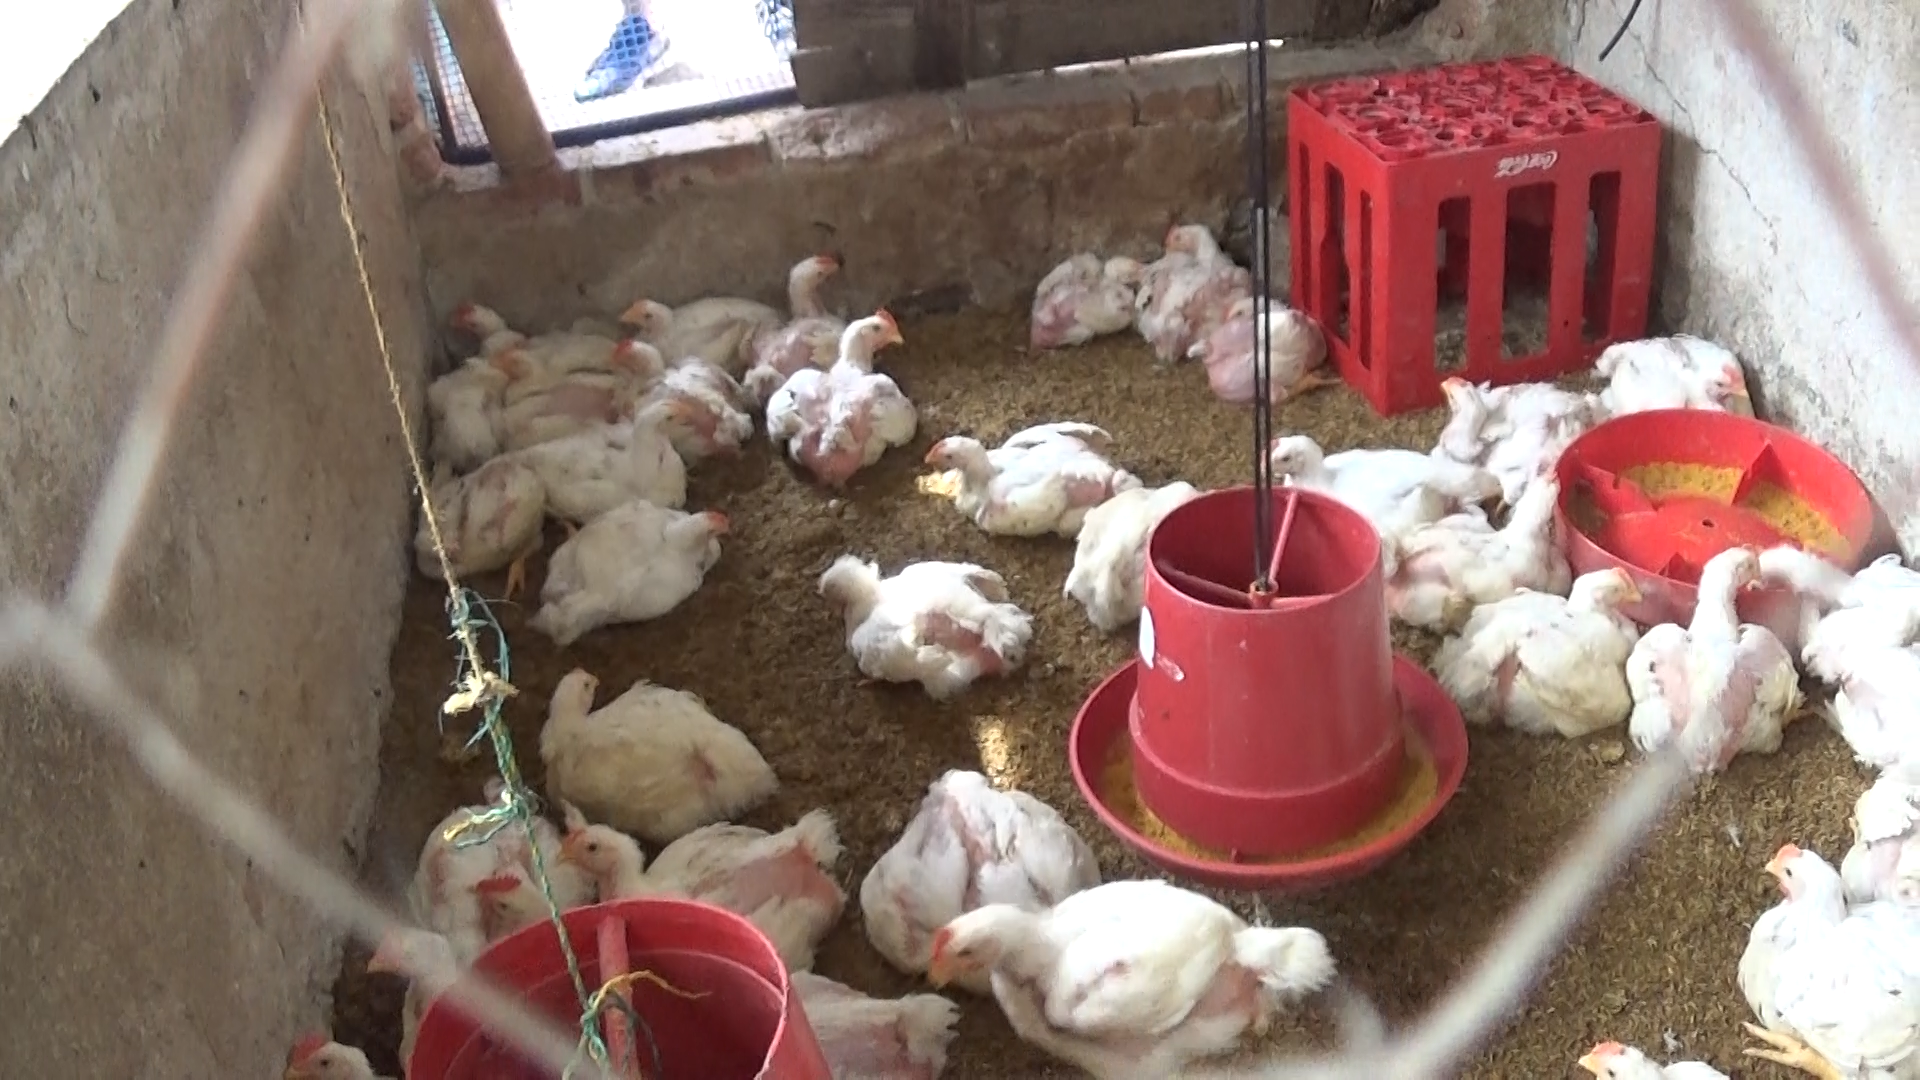Pollos: (913, 876, 1327, 1073), (861, 752, 1102, 978), (1720, 822, 1920, 1073), (553, 800, 852, 959), (521, 653, 775, 825), (1619, 541, 1796, 787), (1431, 567, 1648, 742), (527, 481, 742, 649), (802, 541, 1029, 687), (1253, 418, 1495, 545), (770, 298, 934, 481), (899, 404, 1130, 529), (1382, 472, 1571, 618), (516, 396, 704, 516), (409, 455, 564, 588), (1166, 284, 1342, 396), (1433, 353, 1596, 469), (618, 338, 750, 452), (1592, 330, 1762, 417), (442, 291, 622, 371), (1142, 214, 1241, 357), (603, 286, 770, 361), (1015, 241, 1145, 332), (752, 243, 855, 353), (477, 338, 633, 389), (272, 1009, 372, 1077)
